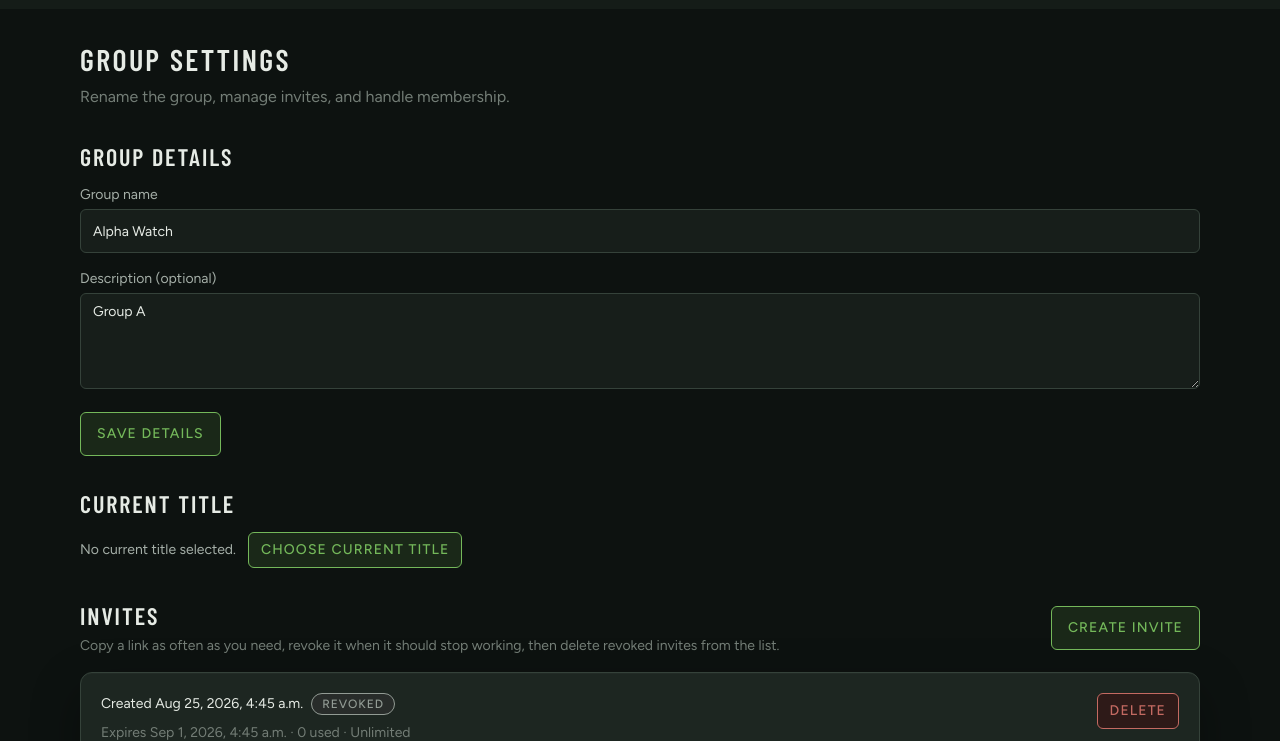
Test: invites › lets an owner delete a revoked invite
The image size is (1280, 741).
Expected: the text "Revoked" is shown, [311, 693, 395, 715]
Click the button "Delete": (1138, 711) [1097, 693, 1179, 729]
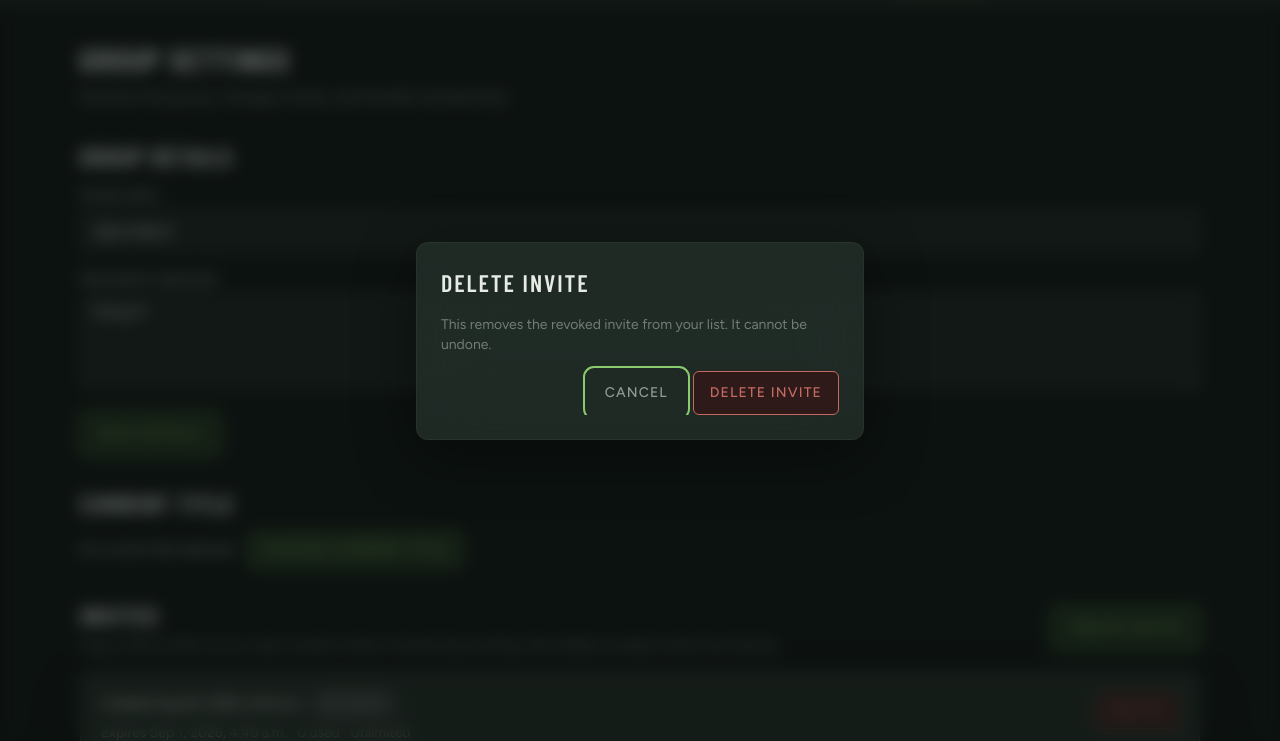
Click the button "Delete invite": (766, 393) [693, 371, 839, 415]
(page scrolled)
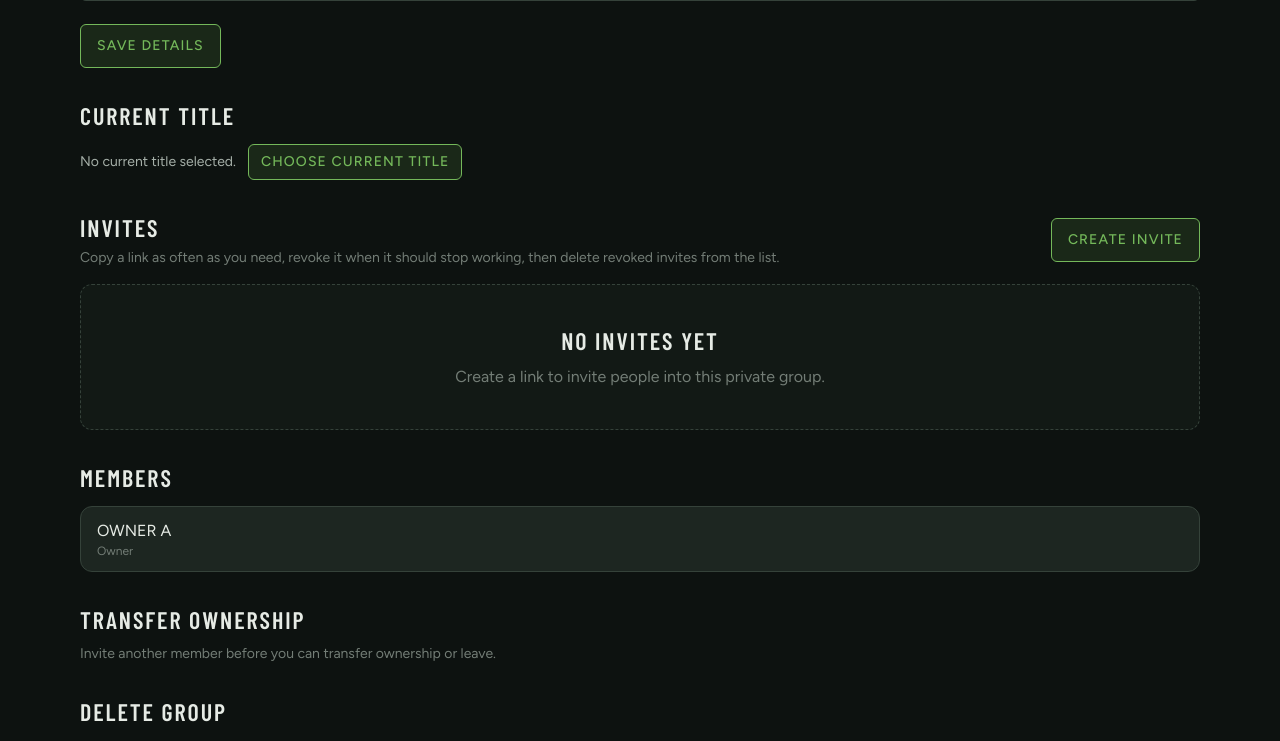
Expected: the text "Revoked" is not shown
Expected: the heading "No invites yet" is shown, [561, 326, 719, 355]
